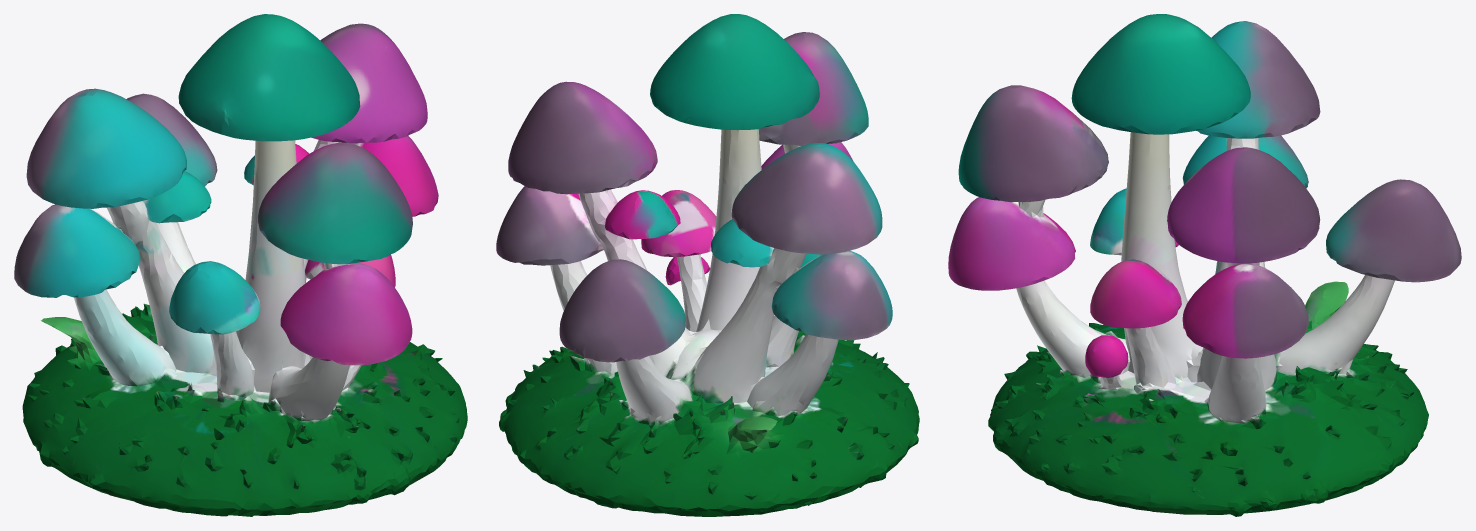
The model's file is Jungle_GlowShroom.glb.
3 renders of one model, left to right at view 1: azimuth 30°, elevation 25°; view 2: azimuth 150°, elevation 25°; view 3: azimuth 270°, elevation 25°, orthographic. The views are drawn at different scales.
Visible parts, largest first — view 1: Jungle_GlowShroom; view 2: Jungle_GlowShroom; view 3: Jungle_GlowShroom.
Boxes of the visible parts, x1,y1,x2,y2 form: Jungle_GlowShroom: (14, 14, 467, 516); Jungle_GlowShroom: (496, 14, 919, 516); Jungle_GlowShroom: (948, 14, 1461, 516).
Size of the model in its own units: 1.68 by 1.68 by 1.9.
Materials: 1 (1 with a texture image).
